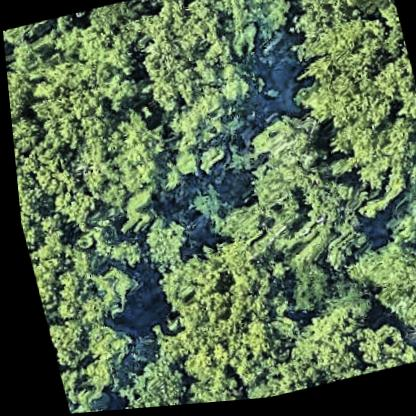tree-top: (144, 233, 301, 384), (288, 16, 416, 186), (123, 0, 267, 148), (31, 14, 149, 130), (24, 227, 135, 339), (235, 108, 338, 227), (326, 79, 416, 211), (10, 123, 108, 244), (81, 106, 178, 207), (271, 303, 363, 390), (347, 235, 416, 338), (69, 320, 141, 396), (105, 350, 187, 411), (272, 256, 341, 324), (129, 207, 195, 275), (340, 322, 416, 380), (167, 352, 239, 407), (5, 59, 46, 143), (297, 0, 396, 34), (373, 196, 416, 262), (58, 392, 104, 414), (2, 29, 14, 71)
